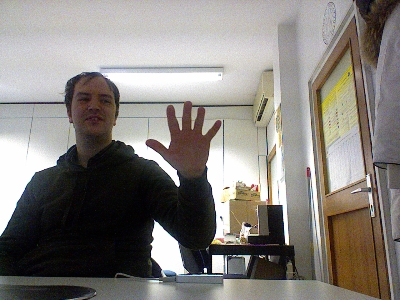布: (143, 99, 222, 175)
